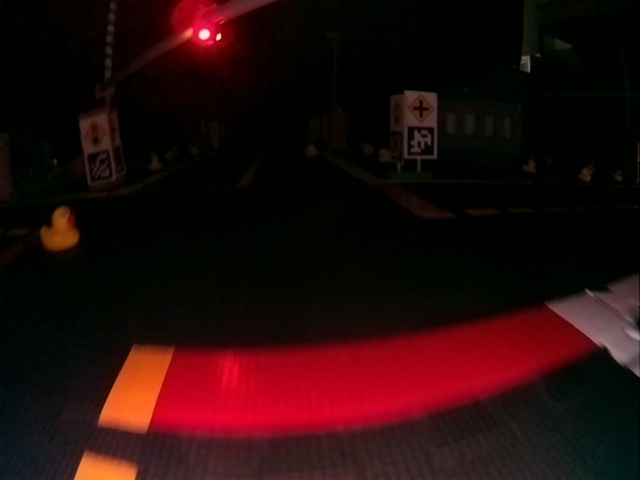Duckie: (41, 212, 77, 247)
Intersection sign: (407, 93, 433, 120)
QR code: (406, 128, 435, 156), (88, 152, 111, 180)
Signal sign: (83, 120, 107, 147)
Traffic light: (189, 5, 224, 48)
